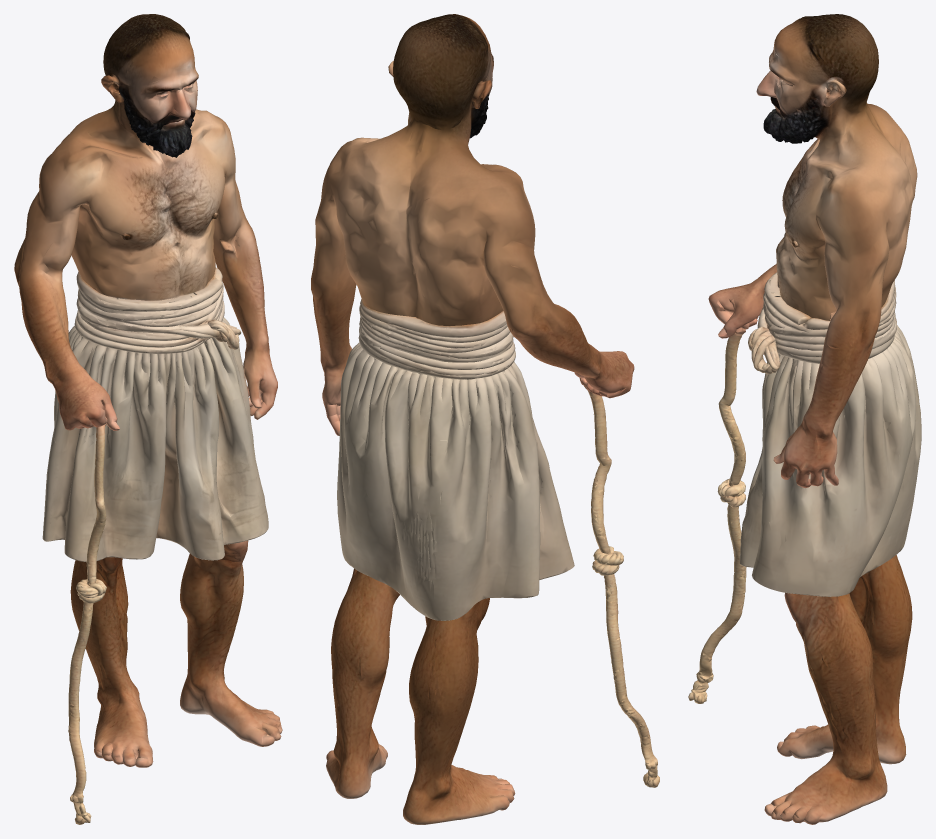
The model's file is crowd_fisherman_rodin_source.glb.
3 views of the same model, side by side, from view 1: azimuth 30°, elevation 25°; view 2: azimuth 150°, elevation 25°; view 3: azimuth 270°, elevation 25° (orthographic). The views are drawn at different scales.
Visible parts, largest first — view 1: model; view 2: model; view 3: model.
Part boxes in pixels (x1,y1,x2,y2): model: (14, 14, 282, 824); model: (311, 14, 659, 824); model: (688, 14, 921, 824).
Bounding box in the file's own units: 0.6949 × 1.9 × 0.5317.
Materials: 1 (1 with a texture image).
